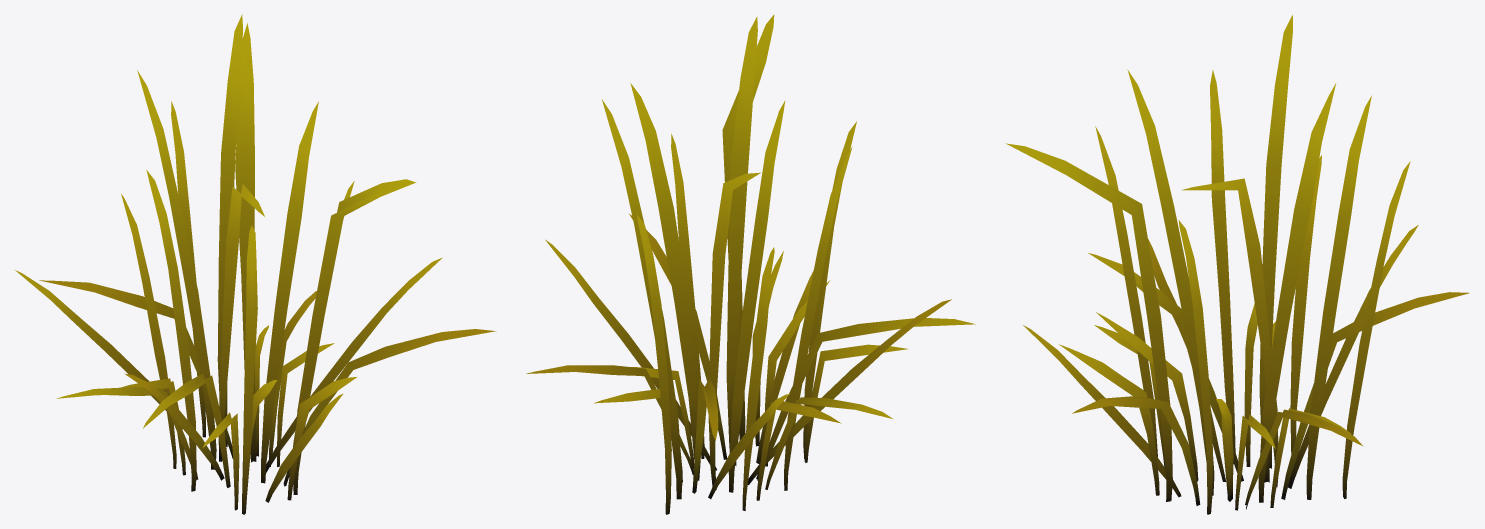
The model's file is Grass_Wispy_Tall.glb.
The picture shows the model from 3 angles, left to right: view 1: azimuth 30°, elevation 25°; view 2: azimuth 150°, elevation 25°; view 3: azimuth 270°, elevation 25°; orthographic projection. The views are drawn at different scales.
Parts seen in each view (by area): view 1: Grass_Wispy_Tall; view 2: Grass_Wispy_Tall; view 3: Grass_Wispy_Tall.
Part boxes in pixels (bbox=[...]): Grass_Wispy_Tall: bbox=[15, 14, 496, 514]; Grass_Wispy_Tall: bbox=[526, 14, 975, 514]; Grass_Wispy_Tall: bbox=[1005, 15, 1469, 514].
Size of the model in its own units: 1.54 by 1.67 by 1.59.
Materials: 1 (1 with a texture image).
